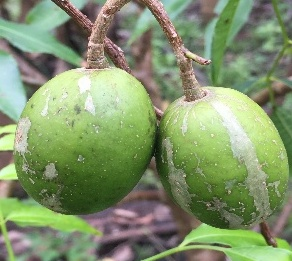Coc: (8, 51, 156, 213), (161, 59, 287, 242)
